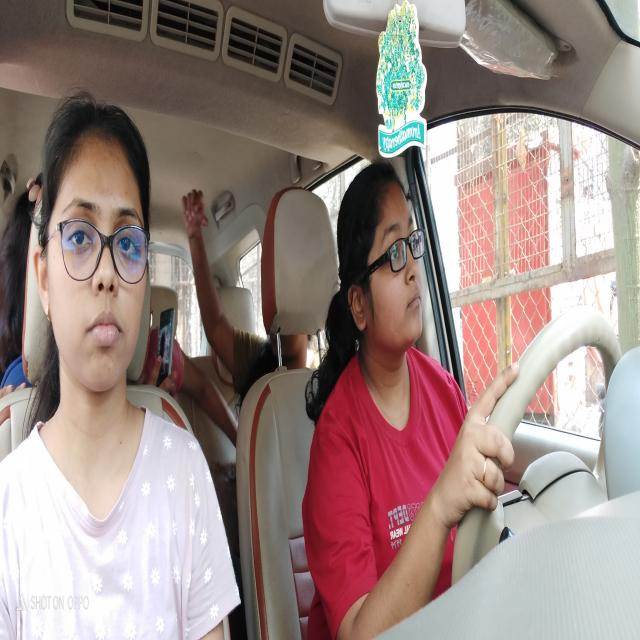person: (32, 87, 153, 397), (335, 160, 433, 360)
